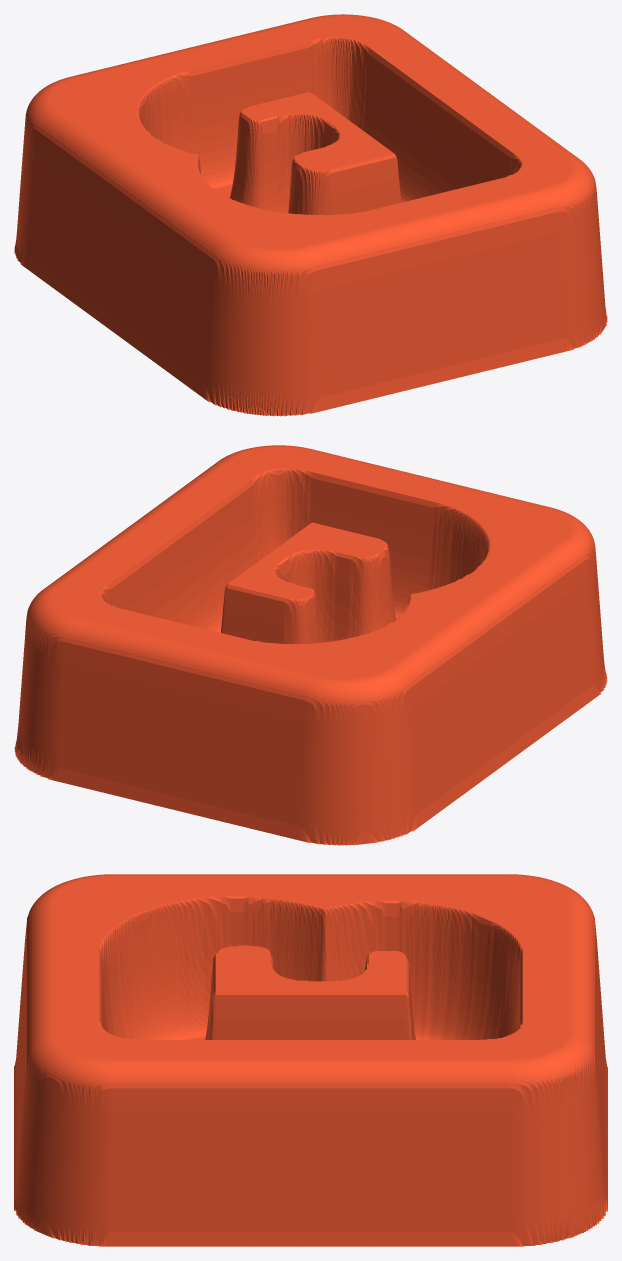
The model's file is mold.glb.
The picture shows the model from 3 angles, top to bottom: view 1: azimuth 30°, elevation 25°; view 2: azimuth 150°, elevation 25°; view 3: azimuth 270°, elevation 25°; orthographic projection. The views are drawn at different scales.
Parts seen in each view (by area): view 1: geometry_0; view 2: geometry_0; view 3: geometry_0.
Boxes of the visible parts, <box> form: geometry_0: <box>14,14,607,416</box>; geometry_0: <box>14,445,607,845</box>; geometry_0: <box>14,874,607,1246</box>.
Bounding box in the file's own units: 0.0466 × 0.0172 × 0.0542.
